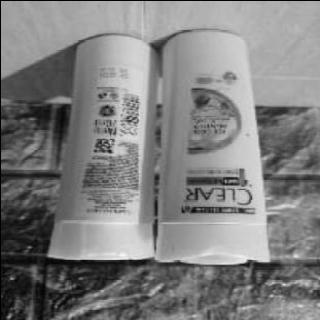objects: (160, 33, 270, 263), (48, 36, 160, 258)
